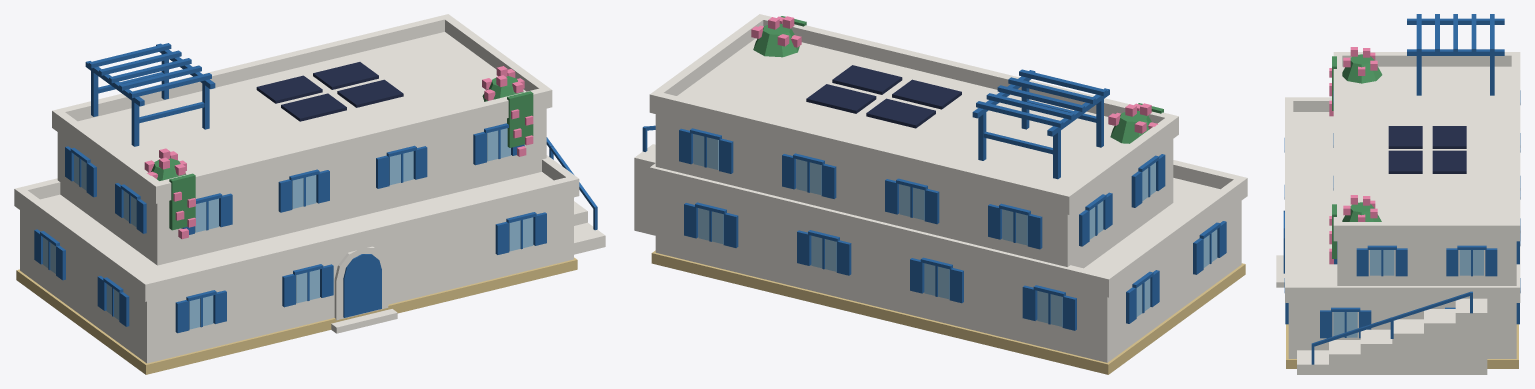
File: house-2x1-2f-aegean-a-solar.glb
3 views of the same model, side by side, from view 1: azimuth 30°, elevation 25°; view 2: azimuth 150°, elevation 25°; view 3: azimuth 270°, elevation 25° (orthographic). The views are drawn at different scales.
Parts seen in each view (by area): view 1: house-2x1-2f-aegean-a-solar; view 2: house-2x1-2f-aegean-a-solar; view 3: house-2x1-2f-aegean-a-solar.
Part boxes in pixels (x1=…): house-2x1-2f-aegean-a-solar: x1=14, y1=14, x2=605, y2=374; house-2x1-2f-aegean-a-solar: x1=634, y1=14, x2=1247, y2=374; house-2x1-2f-aegean-a-solar: x1=1276, y1=14, x2=1520, y2=374.
Bounding box in the file's own units: 1.99 × 0.866 × 1.
1 material, 1 textured.
